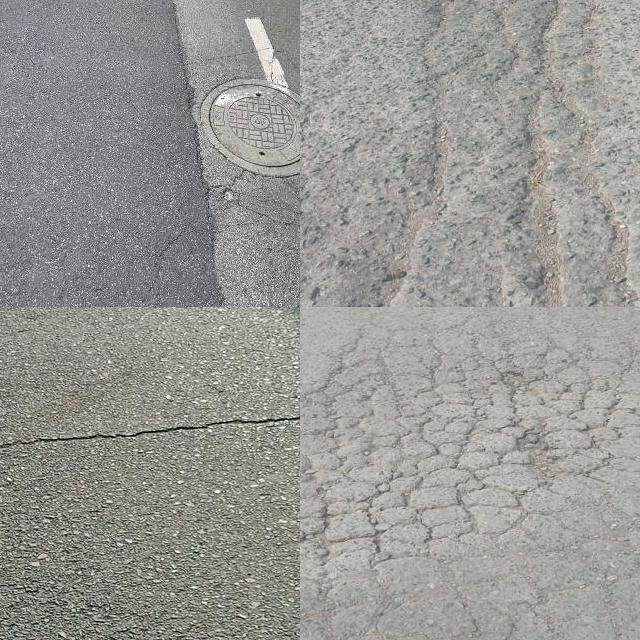Melintang: (0, 404, 300, 466)
Retak Buaya: (300, 340, 640, 570), (391, 0, 627, 261)
Sambungan: (0, 0, 222, 307)
